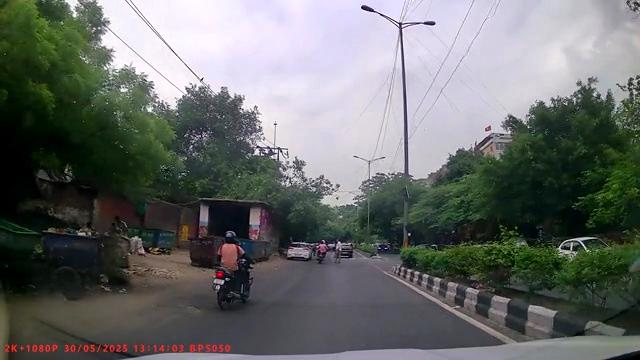motorcycle_with_helmet: (211, 229, 254, 311)
